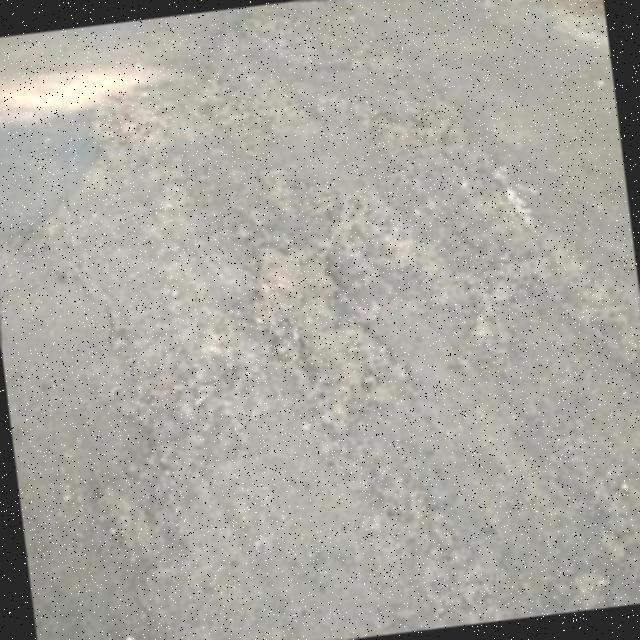Pothole: (258, 252, 411, 426)
